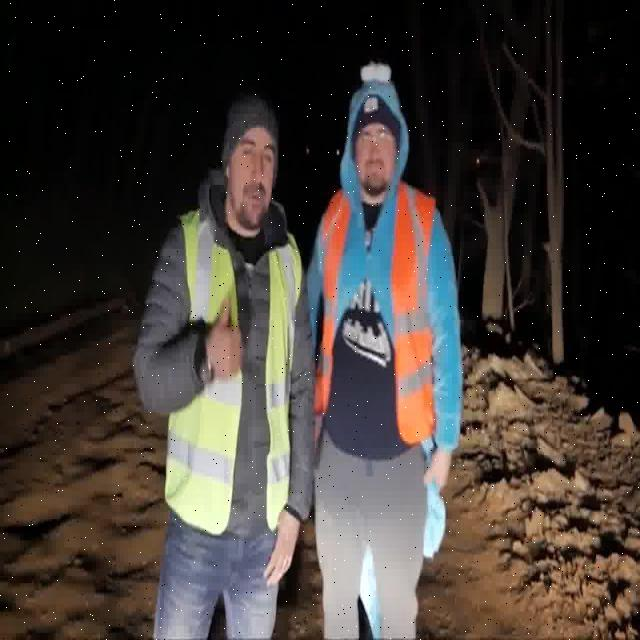Vest: (164, 203, 297, 532), (319, 179, 437, 434)
